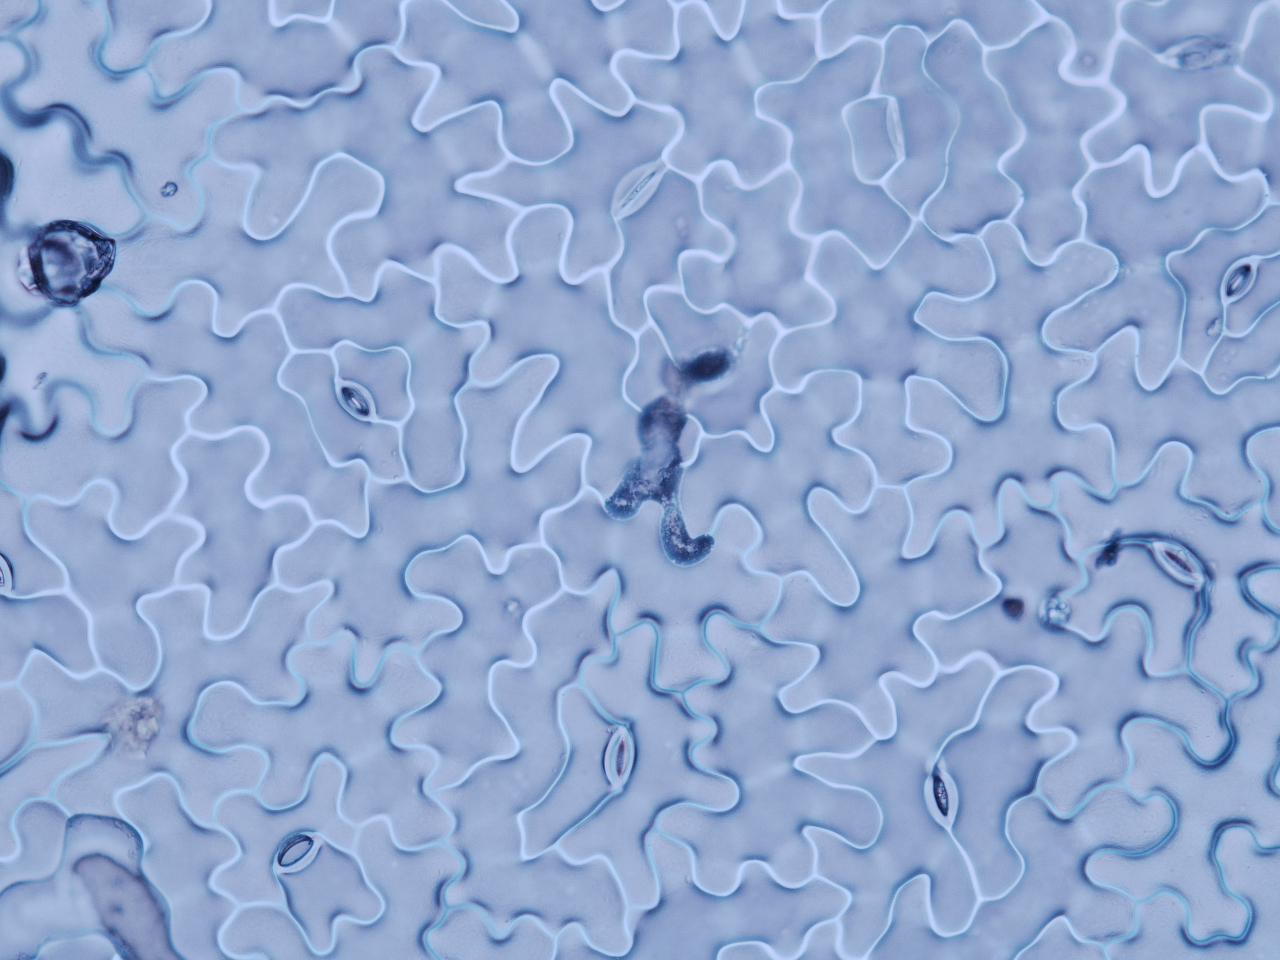estoma: (1151, 539, 1213, 590), (600, 724, 643, 792), (920, 767, 966, 831), (1160, 36, 1239, 71), (1215, 248, 1260, 306), (330, 377, 381, 426), (269, 830, 317, 873), (1, 544, 14, 596)
